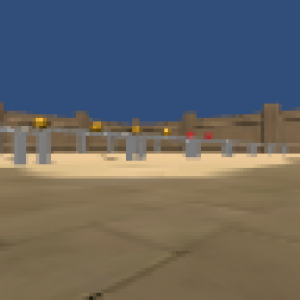badGoal: (204, 130, 214, 139), (185, 131, 196, 139)
goodGoalMulti: (32, 115, 51, 129), (89, 118, 104, 132), (128, 122, 143, 136), (160, 127, 173, 136)
wall: (126, 135, 150, 161), (35, 129, 52, 163), (13, 128, 26, 166), (185, 140, 202, 158), (76, 129, 88, 153), (221, 140, 234, 157), (107, 132, 116, 155), (247, 143, 257, 156), (154, 137, 161, 152), (267, 143, 273, 154)
